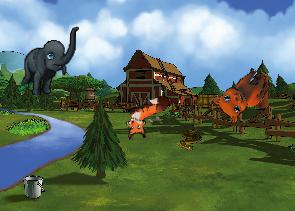bear: (208, 57, 274, 128)
elephant: (22, 26, 79, 96)
fox: (117, 92, 178, 143)
